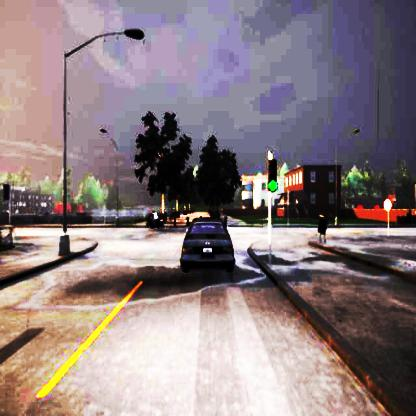motobike: (146, 212, 162, 229)
vehicle: (180, 218, 235, 272)
